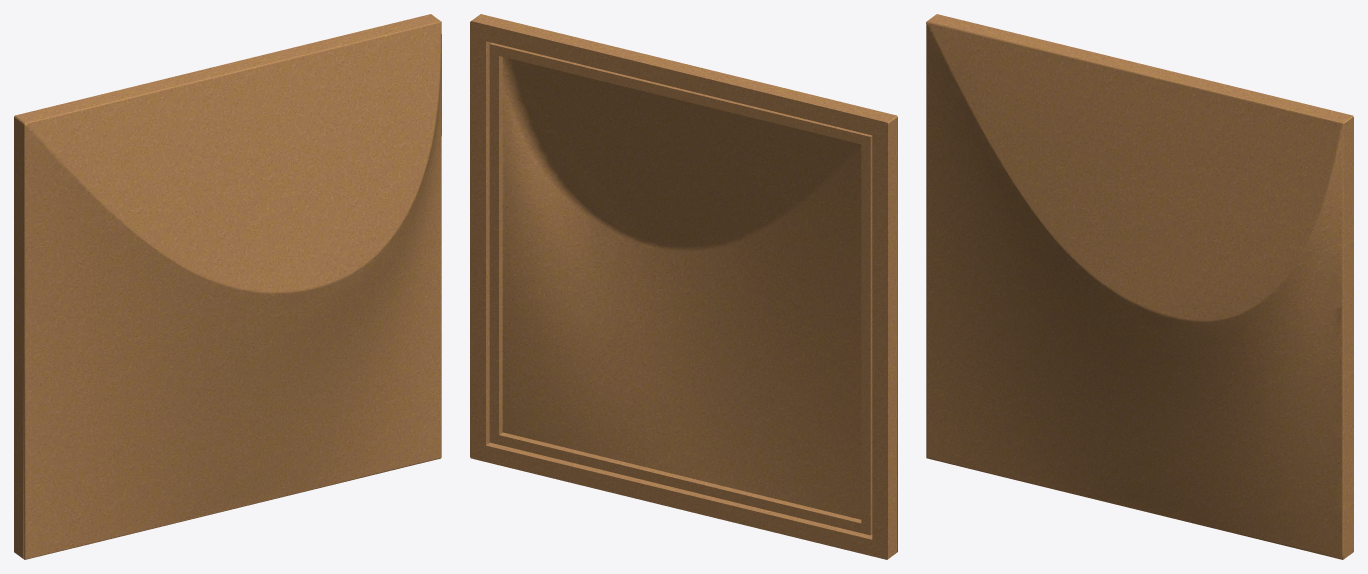
The model's file is Furniture_Acoustics_Abstracta_Sahara.fbx.
3 renders of one model, left to right at view 1: azimuth 30°, elevation 25°; view 2: azimuth 150°, elevation 25°; view 3: azimuth 330°, elevation 25°, orthographic.
Visible parts, largest first — view 1: Mesh_1_e547b88e_2834_4dc7_8a38_cc0e897a79f8_Ch1; view 2: Mesh_1_e547b88e_2834_4dc7_8a38_cc0e897a79f8_Ch1; view 3: Mesh_1_e547b88e_2834_4dc7_8a38_cc0e897a79f8_Ch1.
Boxes of the visible parts, x1,y1,x2,y2 form: Mesh_1_e547b88e_2834_4dc7_8a38_cc0e897a79f8_Ch1: [14, 14, 441, 559]; Mesh_1_e547b88e_2834_4dc7_8a38_cc0e897a79f8_Ch1: [470, 14, 897, 559]; Mesh_1_e547b88e_2834_4dc7_8a38_cc0e897a79f8_Ch1: [926, 14, 1353, 559].
Bounding box in the file's own units: 450 × 59.74 × 450.
1 material, 1 textured.
